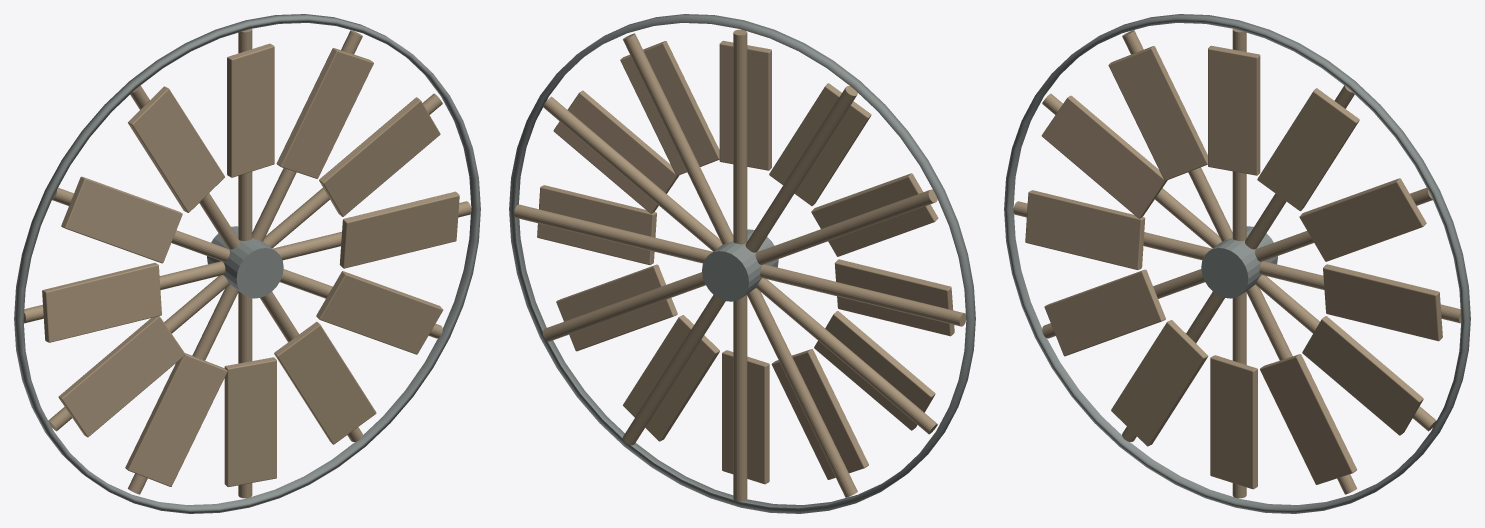
Rendered from coastal-saltworks-and-trade-port-coastal-saltworks-and-12c213a3__31375.glb.
The picture shows the model from 3 angles, left to right: view 1: azimuth 30°, elevation 25°; view 2: azimuth 150°, elevation 25°; view 3: azimuth 330°, elevation 25°; orthographic projection.
Visible parts, largest first — view 1: coastal-saltworks-and-trade-port-pump-rotor; view 2: coastal-saltworks-and-trade-port-pump-rotor; view 3: coastal-saltworks-and-trade-port-pump-rotor.
Boxes of the visible parts, left/top/right/bottom form: coastal-saltworks-and-trade-port-pump-rotor: left=14, top=14, right=480, bottom=513; coastal-saltworks-and-trade-port-pump-rotor: left=509, top=14, right=975, bottom=513; coastal-saltworks-and-trade-port-pump-rotor: left=1004, top=14, right=1470, bottom=513.
Bounding box in the file's own units: 2.16 × 2.16 × 0.2399.
